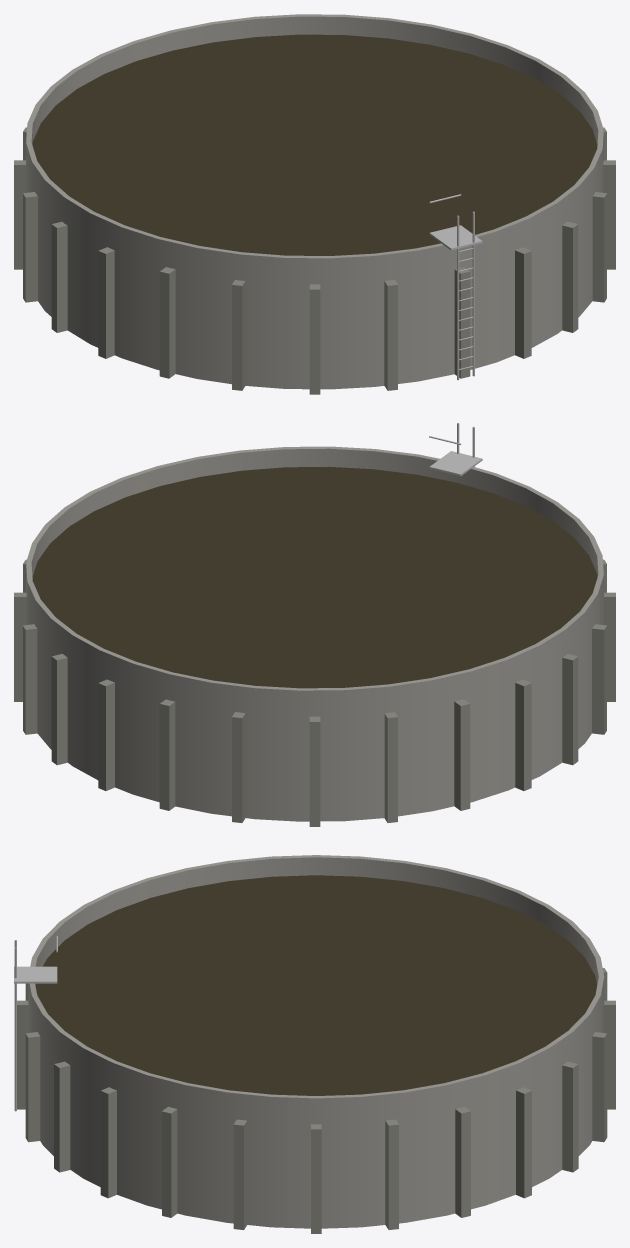
File: farm.store.slurry_tank_concrete.glb
The picture shows the model from 3 angles, top to bottom: view 1: azimuth 30°, elevation 25°; view 2: azimuth 150°, elevation 25°; view 3: azimuth 270°, elevation 25°; orthographic projection.
Visible parts, largest first — view 1: main__paint_432, main__concrete_a99, main__concrete_888, main__galv_bbb; view 2: main__paint_432, main__concrete_a99, main__concrete_888, main__galv_bbb; view 3: main__paint_432, main__concrete_a99, main__concrete_888, main__galv_bbb.
Boxes of the visible parts, x1,y1,x2,y2 form: main__paint_432: [32, 34, 597, 255]; main__concrete_a99: [26, 14, 603, 389]; main__concrete_888: [14, 127, 615, 394]; main__galv_bbb: [429, 194, 482, 380]; main__paint_432: [32, 466, 597, 688]; main__concrete_a99: [26, 446, 603, 821]; main__concrete_888: [14, 559, 615, 826]; main__galv_bbb: [429, 423, 482, 476]; main__paint_432: [35, 875, 597, 1095]; main__concrete_a99: [28, 855, 604, 1228]; main__concrete_888: [17, 968, 615, 1233]; main__galv_bbb: [14, 936, 57, 1111].
Bounding box in the file's own units: 16.65 × 5.03 × 16.73.
